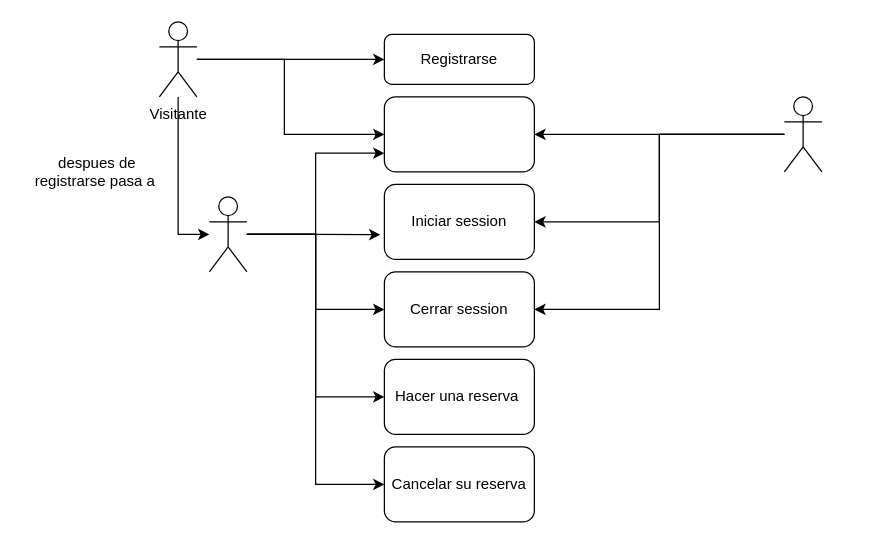
The diagram is 870 pixels wide and 544 high, and some of its shapes have lost their labels. The shapes that lost their labels are listed below. From the top down, each one's centre as x and y in pixels, then its label:
At pixel 458 134: "Navegar por la web".
At pixel 802 134: "Administrador".
At pixel 227 234: "Cliente".
